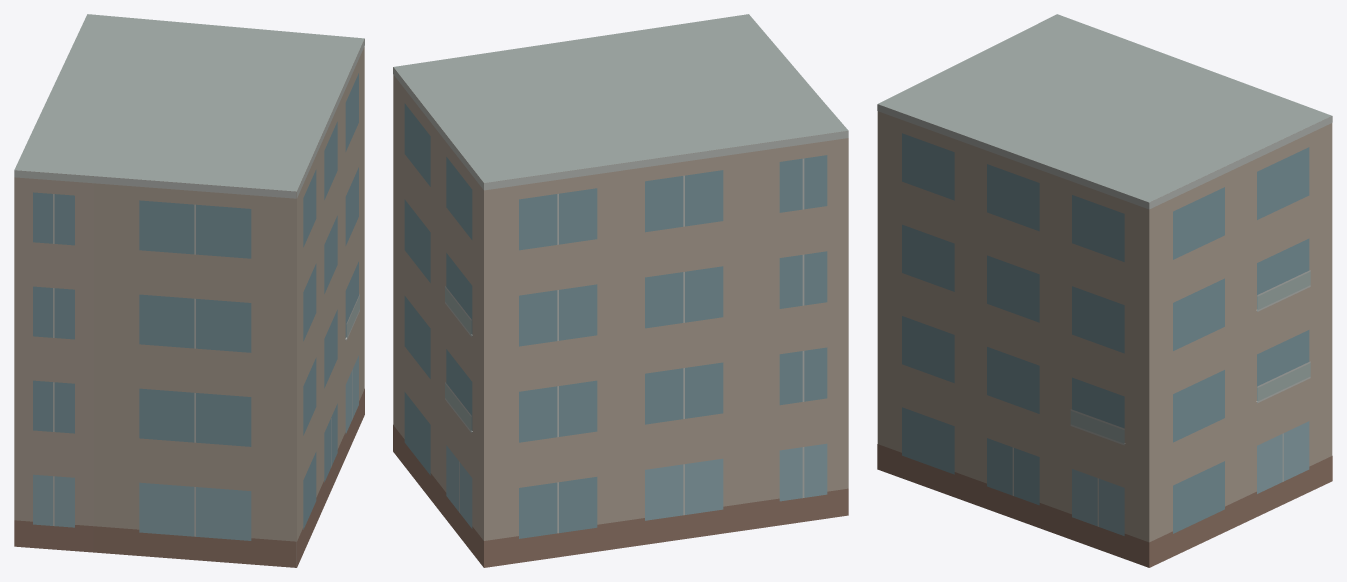
File: survey-upis-32524464.glb
3 views of the same model, side by side, from view 1: azimuth 30°, elevation 25°; view 2: azimuth 150°, elevation 25°; view 3: azimuth 270°, elevation 25° (orthographic). The views are drawn at different scales.
Visible parts, largest first — view 1: survey-upis-32524464.tmp; view 2: survey-upis-32524464.tmp; view 3: survey-upis-32524464.tmp.
Part boxes in pixels (x1,y1,x2,y2): survey-upis-32524464.tmp: [14, 14, 364, 567]; survey-upis-32524464.tmp: [393, 14, 848, 567]; survey-upis-32524464.tmp: [877, 14, 1332, 567].
Bounding box in the file's own units: 14.17 × 12.8 × 14.45.
